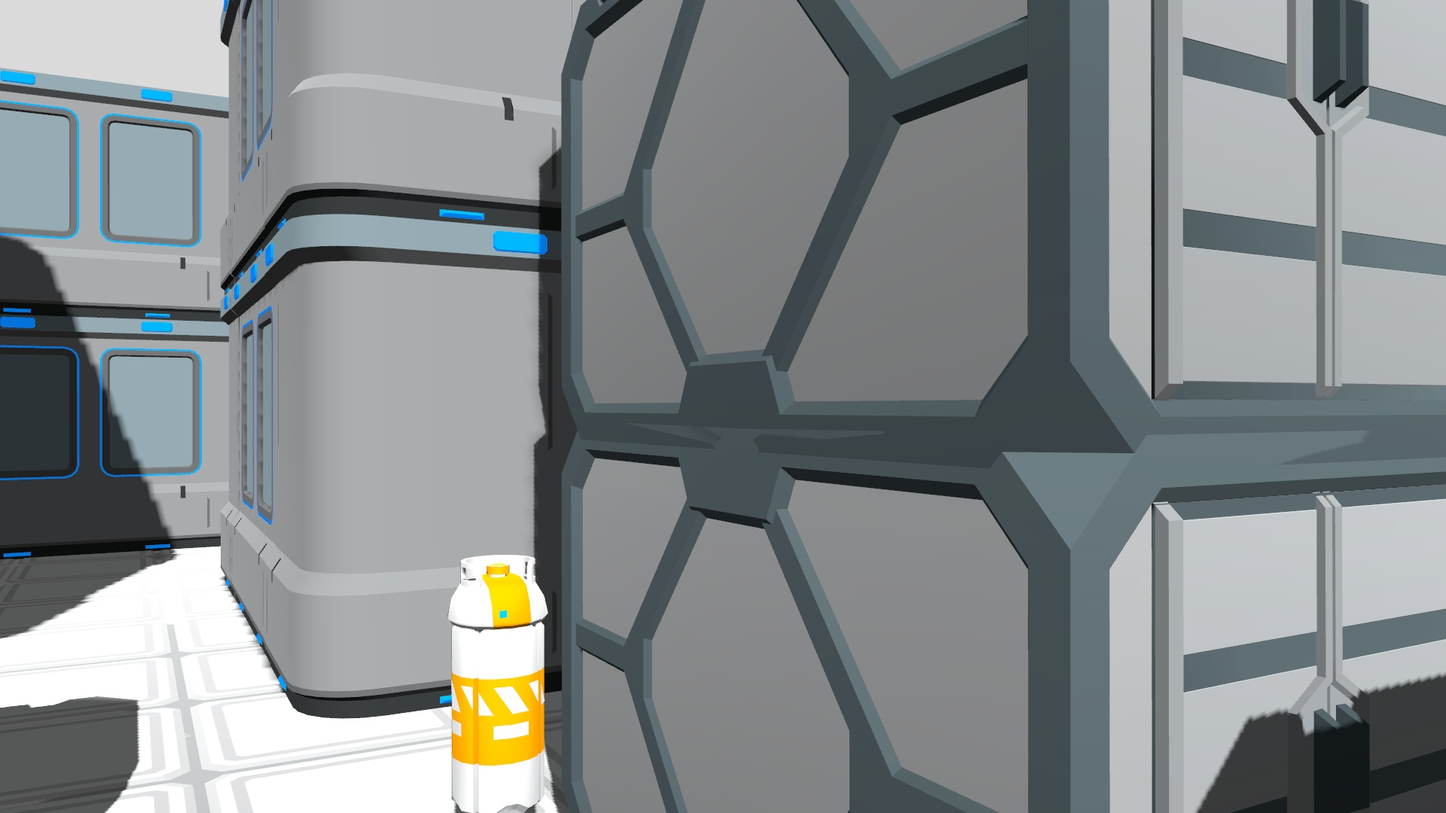yellow_barrel: (442, 553, 547, 810)
